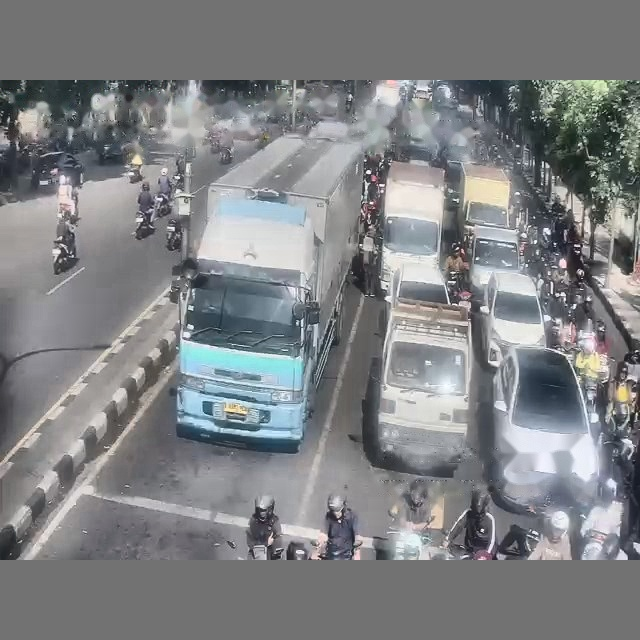Mobil: (491, 346, 599, 511), (480, 272, 549, 366), (383, 263, 450, 325), (31, 151, 83, 189), (96, 138, 126, 164)
Motor: (496, 524, 541, 559), (311, 540, 361, 559), (447, 271, 471, 308), (52, 240, 74, 274), (166, 218, 182, 250), (134, 210, 151, 239), (249, 545, 283, 559), (154, 193, 170, 217), (126, 165, 142, 183), (219, 147, 232, 164)
Truk: (175, 134, 362, 451), (365, 298, 472, 471), (380, 162, 444, 295), (458, 163, 515, 245)
